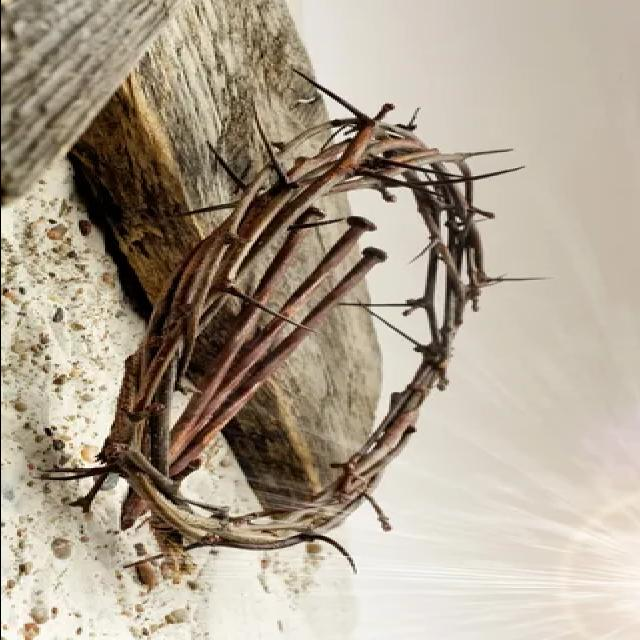crown: (75, 106, 552, 570)
